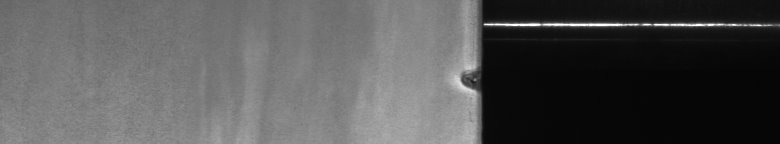hb: (453, 64, 472, 96)
